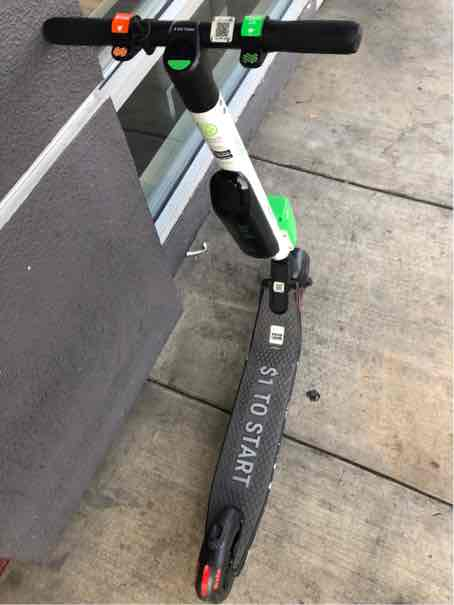scooter: (29, 11, 362, 598)
